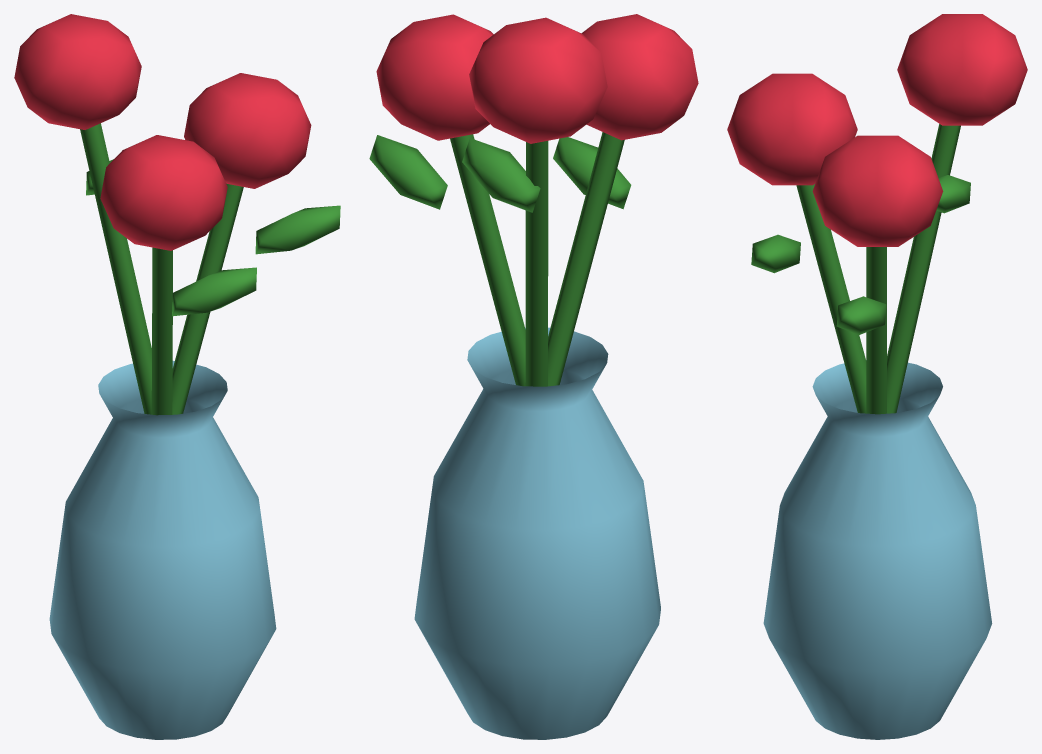
File: furn_rose_vase.glb
3 views of the same model, side by side, from view 1: azimuth 30°, elevation 25°; view 2: azimuth 150°, elevation 25°; view 3: azimuth 270°, elevation 25° (orthographic). The views are drawn at different scales.
Visible parts, largest first — view 1: furn_rose_vase_gloss, furn_rose_vase_main; view 2: furn_rose_vase_gloss, furn_rose_vase_main; view 3: furn_rose_vase_gloss, furn_rose_vase_main.
Boxes of the visible parts, x1,y1,x2,y2 form: furn_rose_vase_gloss: (49, 361, 276, 739); furn_rose_vase_main: (14, 14, 340, 415); furn_rose_vase_gloss: (414, 327, 660, 739); furn_rose_vase_main: (369, 14, 698, 386); furn_rose_vase_gloss: (763, 362, 992, 739); furn_rose_vase_main: (727, 14, 1027, 414).
Size of the model in its own units: 0.1857 by 0.455 by 0.1841.
